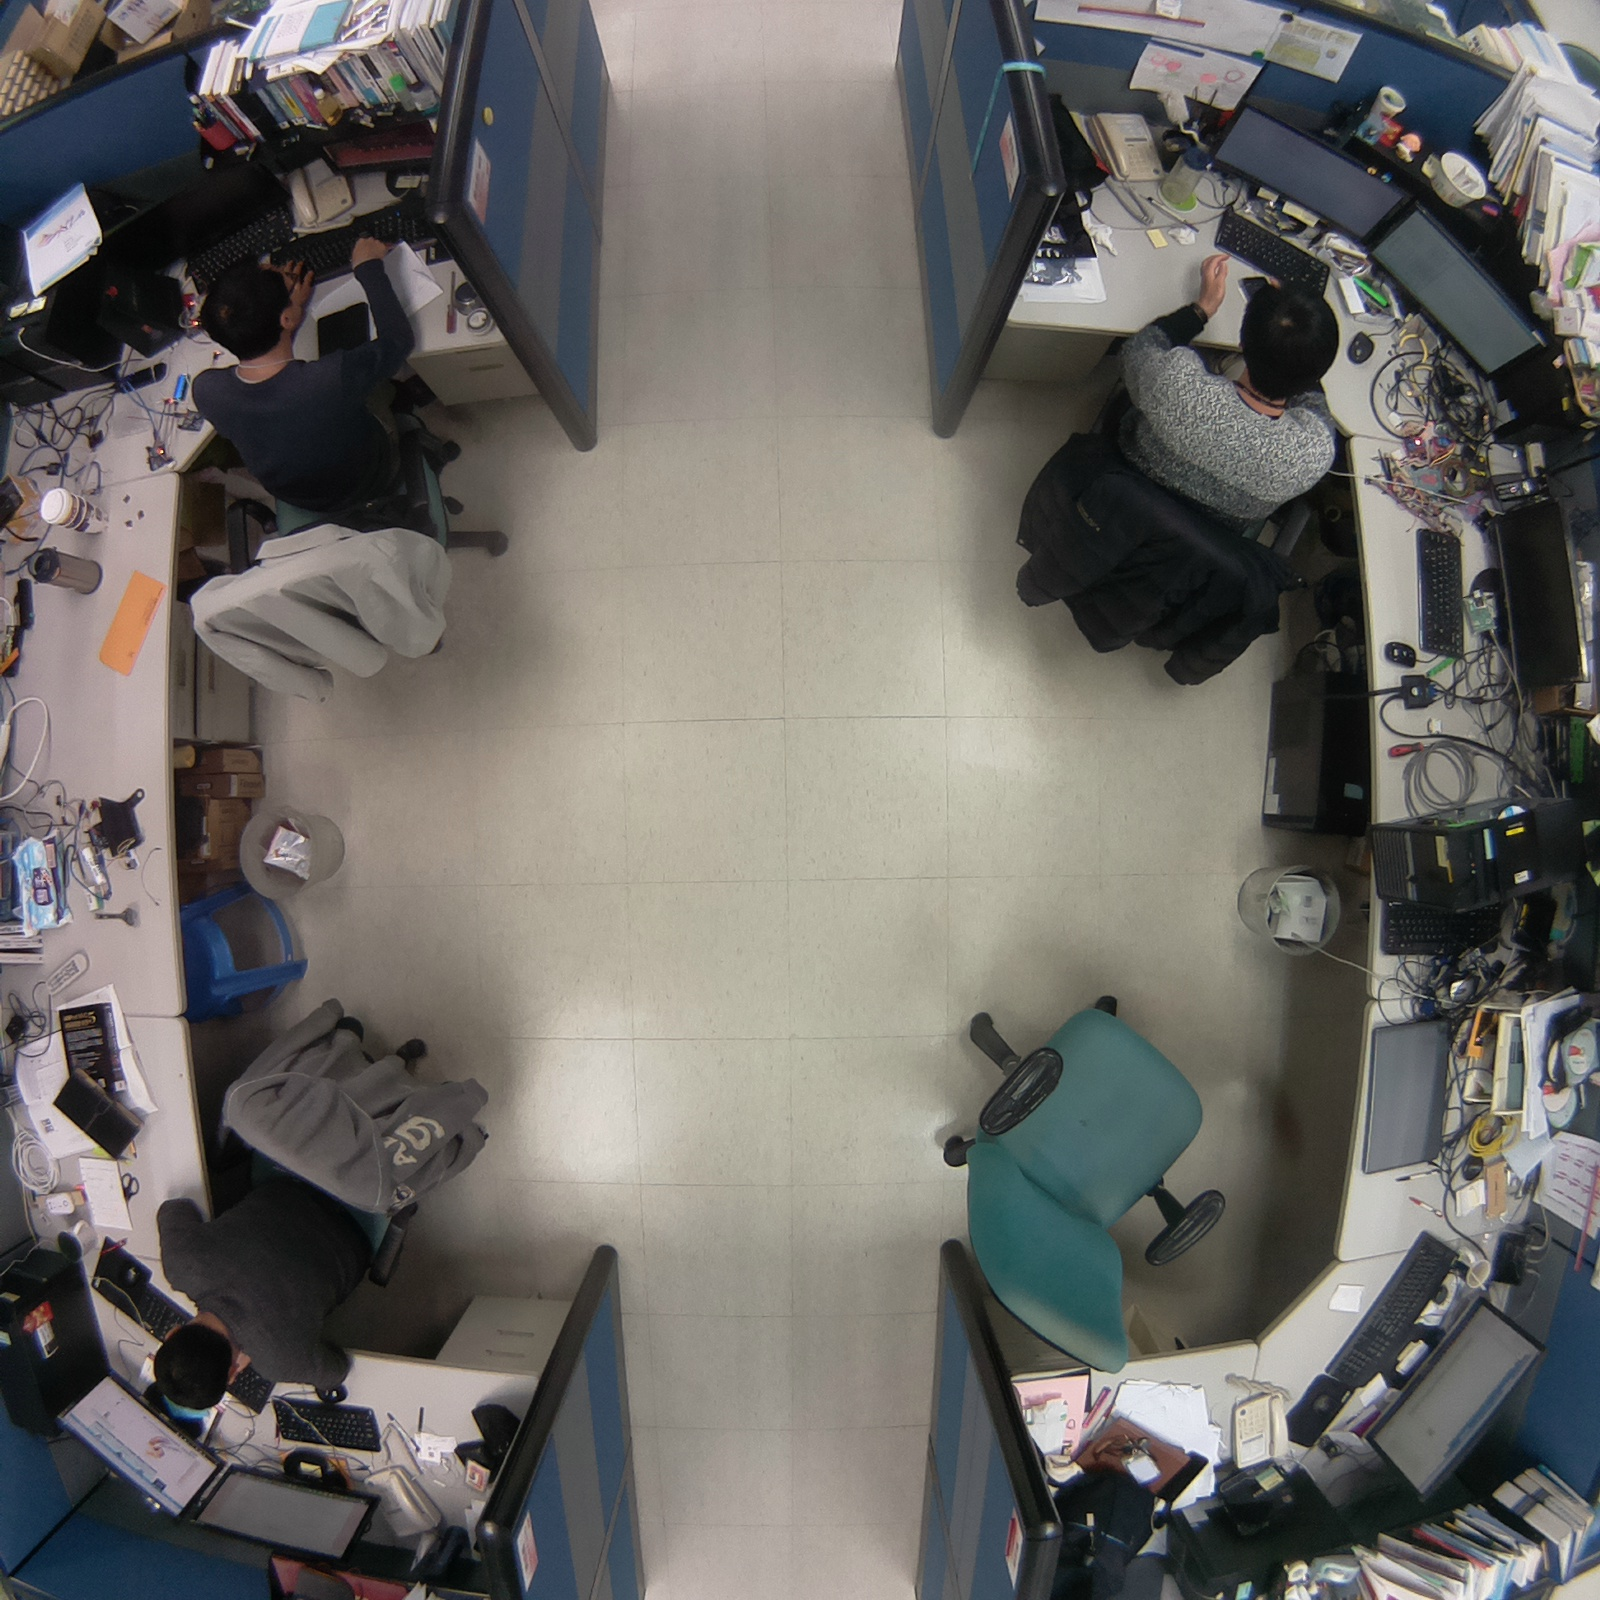chair: (925, 977, 1238, 1396)
sitting: (122, 985, 530, 1434), (170, 210, 530, 715), (989, 242, 1368, 703)
